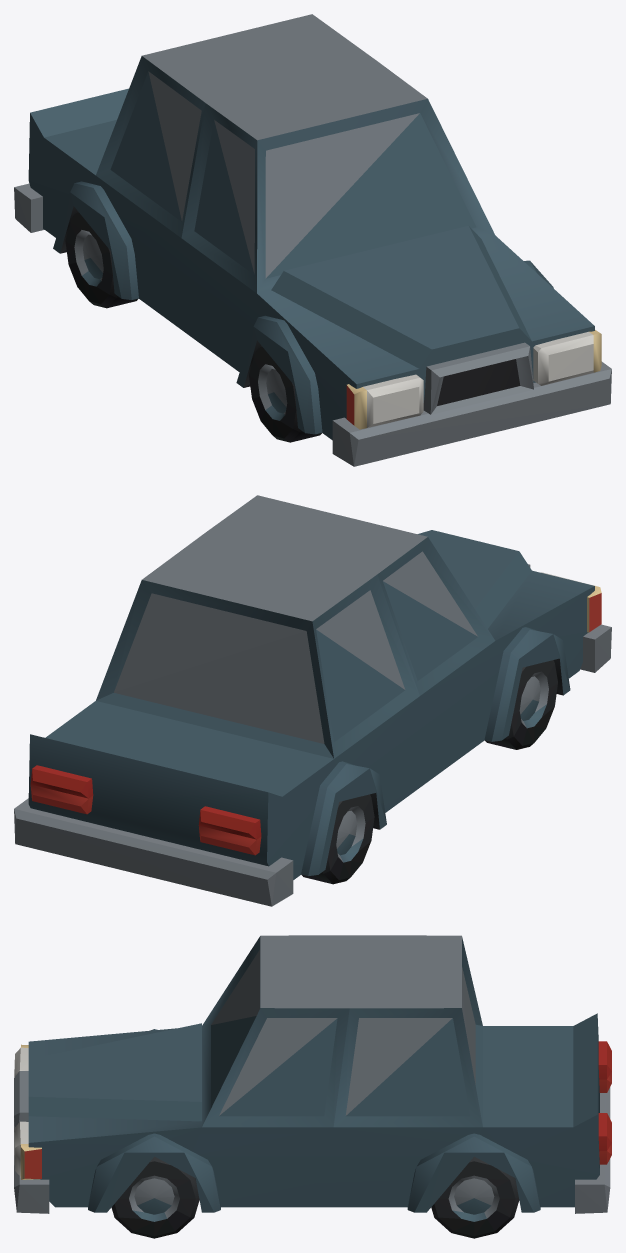
The model's file is sedan.low.b24a02b9.glb.
The picture shows the model from 3 angles, top to bottom: view 1: azimuth 30°, elevation 25°; view 2: azimuth 150°, elevation 25°; view 3: azimuth 270°, elevation 25°; orthographic projection. The views are drawn at different scales.
Visible parts, largest first — view 1: sedan; view 2: sedan; view 3: sedan.
Boxes of the visible parts, x1,y1,x2,y2 form: sedan: (14,14,611,466); sedan: (14,495,611,906); sedan: (14,935,611,1238).
Bounding box in the file's own units: 2.14 × 1.89 × 4.8.
